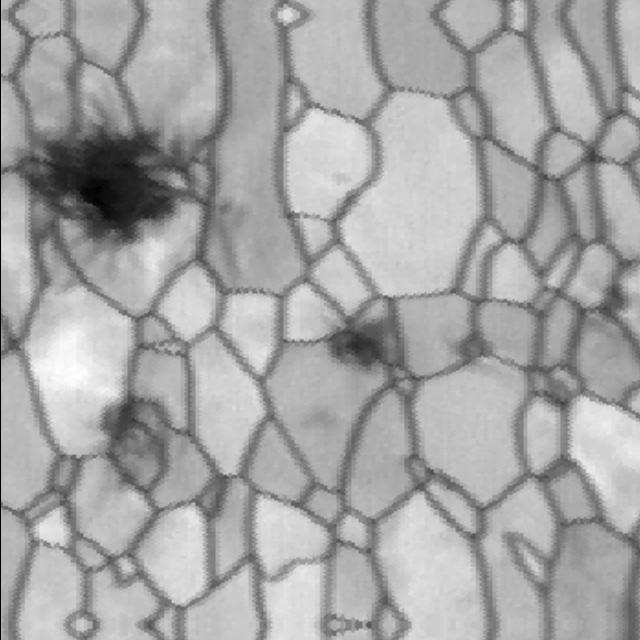good_void: (3, 77, 233, 266), (82, 366, 176, 485), (321, 301, 385, 382), (438, 321, 501, 382), (323, 157, 354, 189)
